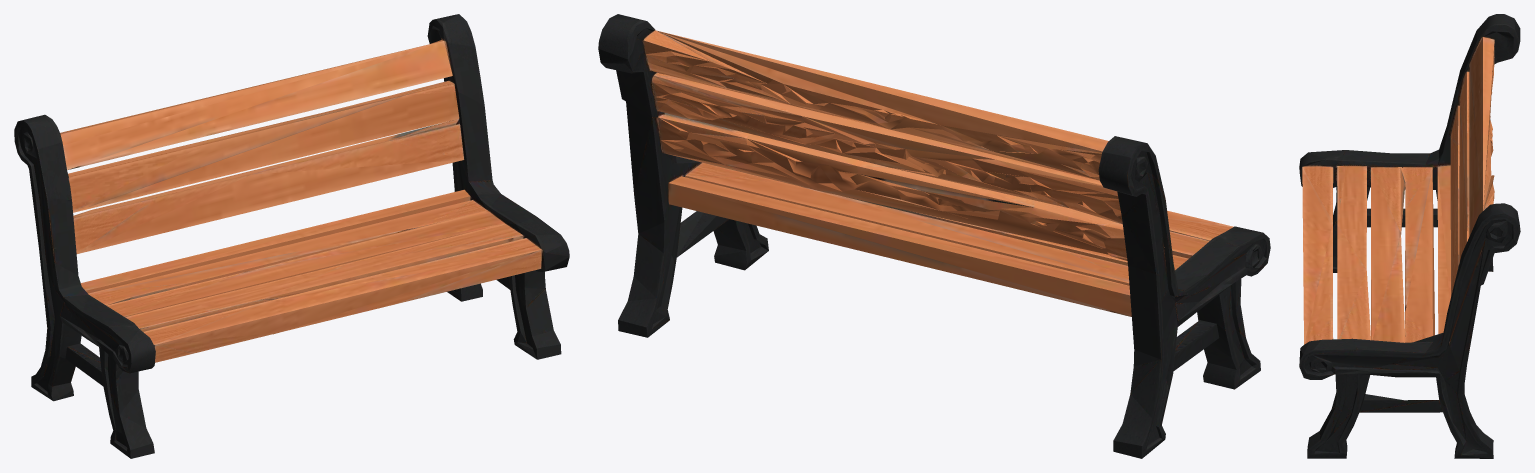
The model's file is bench.glb.
3 views of the same model, side by side, from view 1: azimuth 30°, elevation 25°; view 2: azimuth 150°, elevation 25°; view 3: azimuth 270°, elevation 25° (orthographic). The views are drawn at different scales.
Bounding box in the file's own units: 1.57 × 0.9 × 0.732.
Materials: 1 (1 with a texture image).
